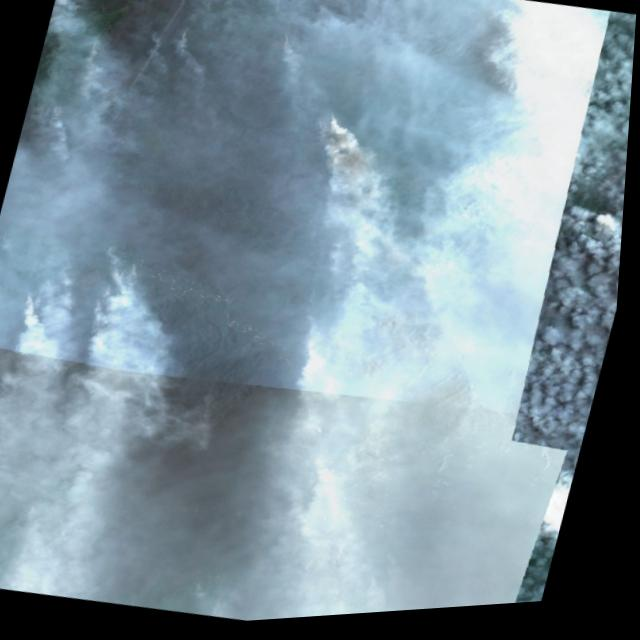fire: (20, 228, 163, 335), (306, 109, 372, 162), (265, 27, 306, 59)
